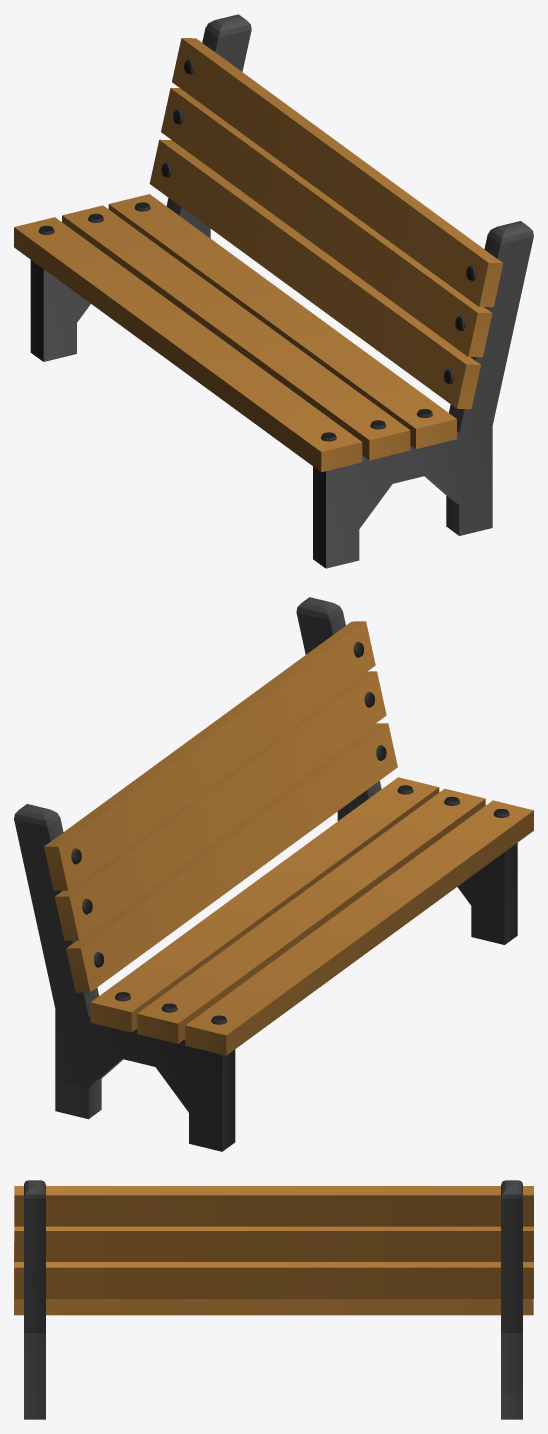
The model's file is bench.glb.
3 renders of one model, top to bottom at view 1: azimuth 30°, elevation 25°; view 2: azimuth 150°, elevation 25°; view 3: azimuth 270°, elevation 25°, orthographic. The views are drawn at different scales.
Parts seen in each view (by area): view 1: Cube; view 2: Cube; view 3: Cube.
Part boxes in pixels (x1=…): Cube: x1=14, y1=14, x2=533, y2=568; Cube: x1=14, y1=597, x2=533, y2=1151; Cube: x1=14, y1=1180, x2=533, y2=1419.
Bounding box in the file's own units: 2.62 × 3.34 × 6.38.
1 material, 1 textured.
